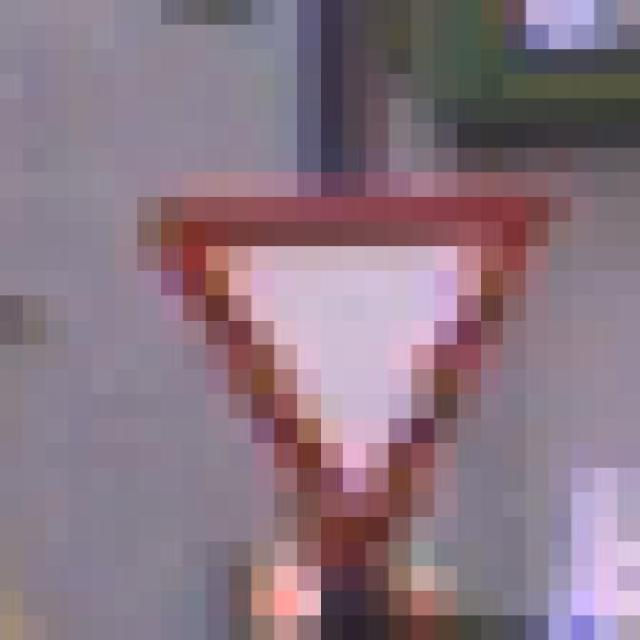Give Way: (137, 148, 572, 590)
